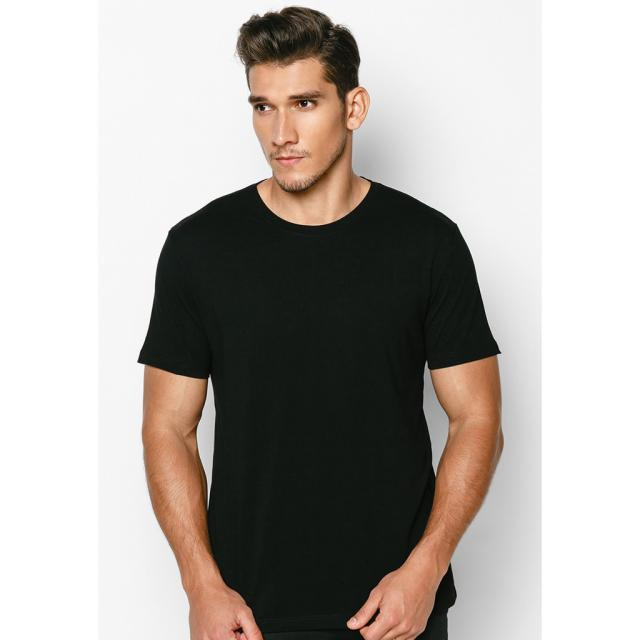Shirt: (133, 174, 508, 626)
